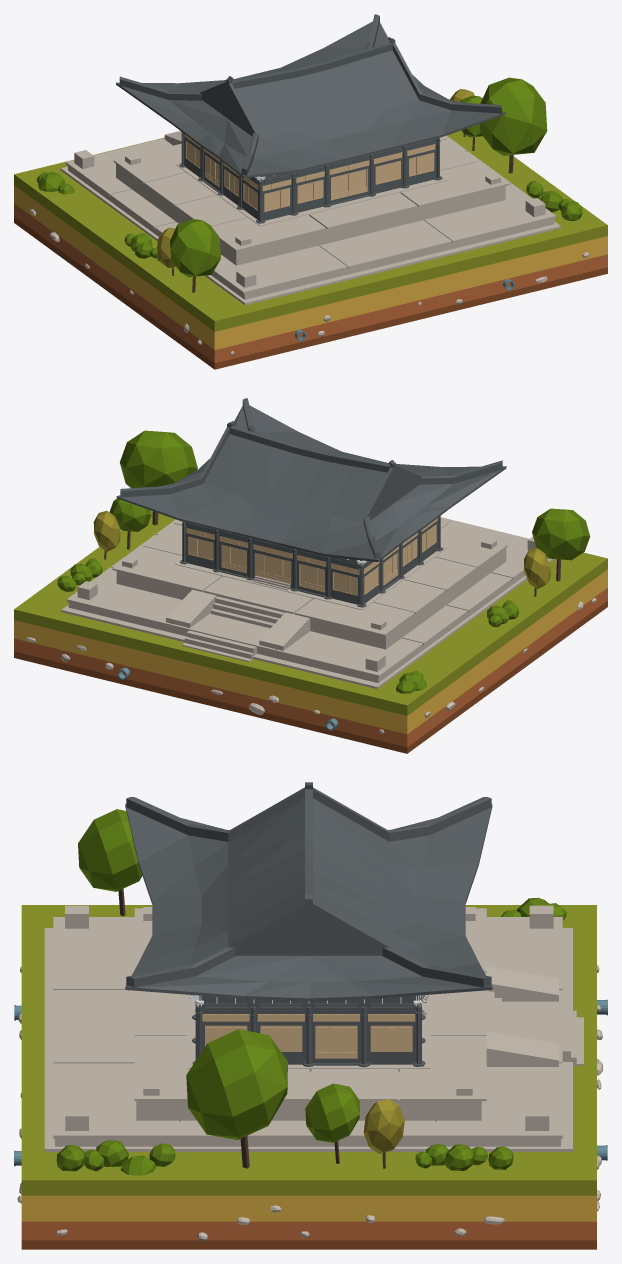
File: Lowpoly_Deoksugung.fbx
3 views of the same model, one above another, from view 1: azimuth 30°, elevation 25°; view 2: azimuth 150°, elevation 25°; view 3: azimuth 270°, elevation 25° (orthographic). The views are drawn at different scales.
Visible parts, largest first — view 1: Floor, Building, Cube, Tree_3_26, Cube_13, Cube_9, Cube_17, Cube_3, Cube_1, Tree_3_1, Cube_24, Cube_32 (+14 smaller); view 2: Floor, Building, Cube, Tree_3_26, Cube_14, Cube_2, Cube_3, Tree_3_1, Cube_29, Cube_1, Cube_21, Cube_25 (+22 smaller); view 3: Building, Floor, Tree_3_26, Cube_9, Cube_3, Cube_13, Cube_2, Cube_17, Cube_21, Cube_14, Tree_3_1, Cube (+26 smaller).
Part boxes in pixels (bbox=[...]): Floor: bbox=[14, 130, 607, 369]; Building: bbox=[116, 14, 505, 223]; Cube: bbox=[116, 164, 505, 265]; Tree_3_26: bbox=[480, 77, 547, 173]; Cube_13: bbox=[319, 220, 451, 268]; Cube_9: bbox=[424, 184, 556, 243]; Cube_17: bbox=[213, 246, 346, 294]; Cube_3: bbox=[60, 166, 560, 305]; Cube_1: bbox=[68, 166, 554, 299]; Tree_3_1: bbox=[170, 219, 220, 292]; Cube_24: bbox=[400, 161, 508, 206]; Cube_32: bbox=[212, 215, 326, 251]; Floor: bbox=[14, 510, 607, 753]; Building: bbox=[116, 398, 506, 607]; Cube: bbox=[116, 548, 506, 649]; Tree_3_26: bbox=[119, 430, 197, 525]; Cube_14: bbox=[276, 631, 423, 677]; Cube_2: bbox=[66, 567, 181, 626]; Cube_3: bbox=[61, 558, 554, 688]; Tree_3_1: bbox=[532, 508, 590, 581]; Cube_29: bbox=[295, 598, 414, 636]; Cube_1: bbox=[68, 521, 548, 682]; Cube_21: bbox=[112, 546, 221, 591]; Cube_25: bbox=[203, 576, 312, 613]; Building: bbox=[125, 782, 492, 1067]; Floor: bbox=[21, 905, 596, 1249]; Tree_3_26: bbox=[186, 1029, 287, 1168]; Cube_9: bbox=[53, 1063, 178, 1138]; Cube_3: bbox=[44, 928, 572, 1151]; Cube_13: bbox=[53, 990, 134, 1063]; Cube_2: bbox=[437, 1063, 562, 1138]; Cube_17: bbox=[53, 917, 134, 990]; Cube_21: bbox=[400, 1036, 486, 1101]; Cube_14: bbox=[486, 917, 562, 990]; Tree_3_1: bbox=[78, 809, 142, 916]; Cube: bbox=[136, 1071, 481, 1121].
Bounding box in the file's own units: 14545 × 6389 × 12569.
